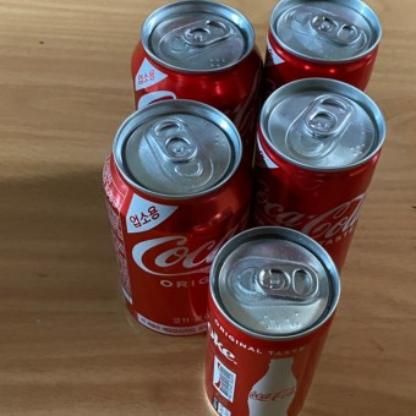Can: (100, 100, 246, 335), (252, 76, 390, 272), (206, 228, 340, 416), (132, 0, 264, 112)
